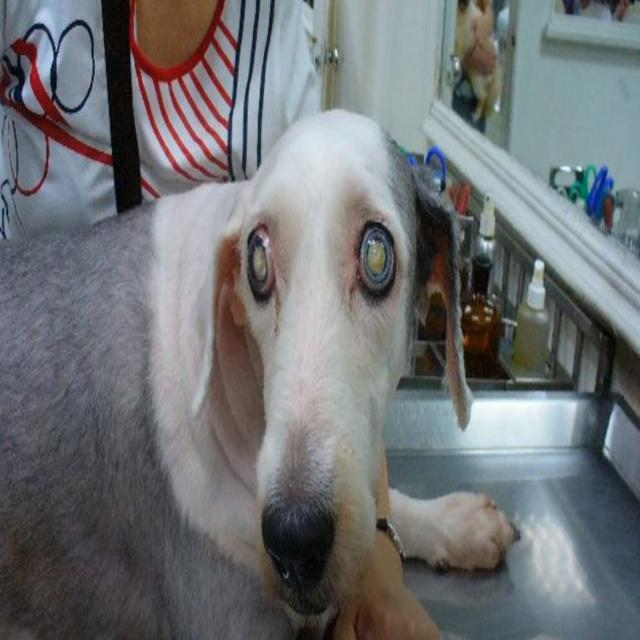eye: (354, 210, 399, 302), (244, 216, 278, 307)
